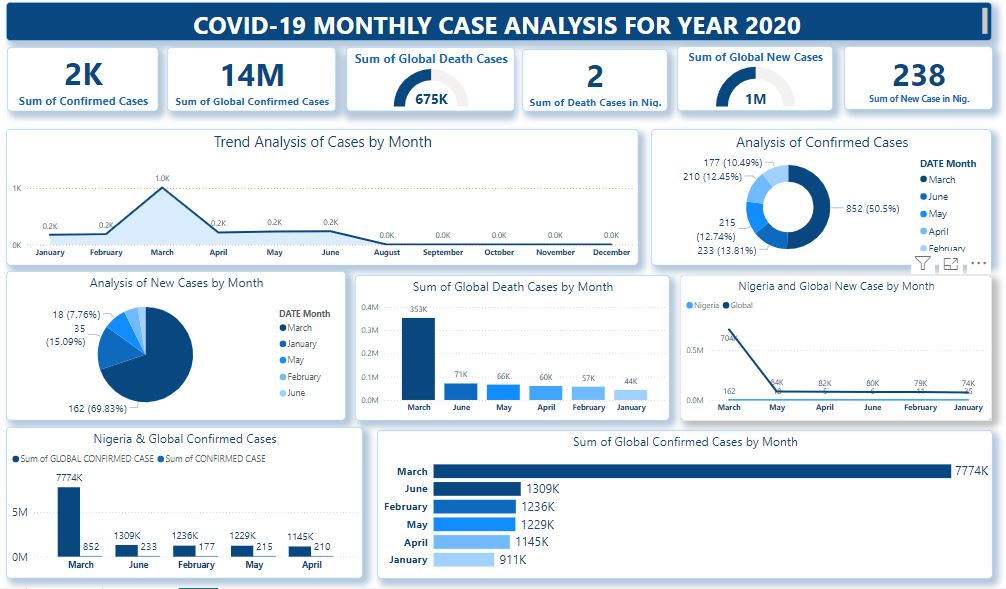

The page's visual inventory and layout, read from the dashboard file:
{"tool":"powerbi","page":{"name":"Dashboard","canvas":[1570,1000],"ordinal":0},"visuals":[{"type":"lineChart","fields":{"Category":["NIGRIA COVID REPORT.DATE.Variation.Date Hierarchy.Month"],"Y":["Sum(NIGRIA COVID REPORT.TOTAL CASE)"]},"box":[18.6,198.6,972.9,210],"z":0},{"type":"textbox","box":[18.6,2.9,1517.1,60],"z":1000},{"type":"donutChart","title":"Analysis of Confirmed Cases","fields":{"Category":["NIGRIA COVID REPORT.DATE.Variation.Date Hierarchy.Month"],"Y":["Sum(NIGRIA COVID REPORT.CONFIRMED CASE)"]},"box":[1011.4,198.6,524.3,210],"z":2000},{"type":"pieChart","fields":{"Category":["NIGRIA COVID REPORT.DATE.Variation.Date Hierarchy.Month"],"Y":["Sum(NIGRIA COVID REPORT.NEW CASE)"]},"box":[18.6,417.1,522.9,230],"z":3000},{"type":"barChart","fields":{"Category":["NIGRIA COVID REPORT.DATE.Variation.Date Hierarchy.Month"],"Y":["Sum(NIGRIA COVID REPORT.GLOBAL CONFIRMED CASE)"]},"box":[588.6,661.4,947.1,228.6],"z":4000},{"type":"lineChart","title":"Nigeria and Global New Case by Month","fields":{"Category":["NIGRIA COVID REPORT.DATE.Variation.Date Hierarchy.Month"],"Y":["Sum(NIGRIA COVID REPORT.NEW CASE)","Sum(NIGRIA COVID REPORT.GLOBAL NEW CASES)"]},"box":[1055.7,422.9,480,224.3],"z":5000},{"type":"clusteredColumnChart","title":"Sum of Global Death Cases by Month","fields":{"Category":["NIGRIA COVID REPORT.DATE.Variation.Date Hierarchy.Month"],"Y":["Sum(NIGRIA COVID REPORT.GLOBAL DEATH CASES)"]},"box":[555.7,422.9,484.3,224.3],"z":6000},{"type":"clusteredColumnChart","title":"Nigeria & Global Confirmed Cases","fields":{"Category":["NIGRIA COVID REPORT.DATE.Variation.Date Hierarchy.Month"],"Y":["Sum(NIGRIA COVID REPORT.GLOBAL CONFIRMED CASE)","Sum(NIGRIA COVID REPORT.CONFIRMED CASE)"]},"box":[18.6,657.1,548.6,232.9],"z":7000},{"type":"card","fields":{"Values":["Sum(NIGRIA COVID REPORT.CONFIRMED CASE)"]},"box":[20,72.9,232.9,98.6],"z":8000}]}

Visuals, with their boxes on the page's 1570x1000 design canvas (x1, y1, x2, y2). These are canvas units, not pixel positions in the 1006x589 screenshot, which may show the page scaled, cropped or inside an application window:
lineChart - NIGRIA COVID REPORT.DATE.Variation.Date Hierarchy.Month x Sum(NIGRIA COVID REPORT.TOTAL CASE): x1=19, y1=199, x2=992, y2=409
textbox: x1=19, y1=3, x2=1536, y2=63
"Analysis of Confirmed Cases" donutChart: x1=1011, y1=199, x2=1536, y2=409
pieChart - NIGRIA COVID REPORT.DATE.Variation.Date Hierarchy.Month x Sum(NIGRIA COVID REPORT.NEW CASE): x1=19, y1=417, x2=542, y2=647
barChart - NIGRIA COVID REPORT.DATE.Variation.Date Hierarchy.Month x Sum(NIGRIA COVID REPORT.GLOBAL CONFIRMED CASE): x1=589, y1=661, x2=1536, y2=890
"Nigeria and Global New Case by Month" lineChart: x1=1056, y1=423, x2=1536, y2=647
"Sum of Global Death Cases by Month" clusteredColumnChart: x1=556, y1=423, x2=1040, y2=647
"Nigeria & Global Confirmed Cases" clusteredColumnChart: x1=19, y1=657, x2=567, y2=890
card - Sum(NIGRIA COVID REPORT.CONFIRMED CASE): x1=20, y1=73, x2=253, y2=172
